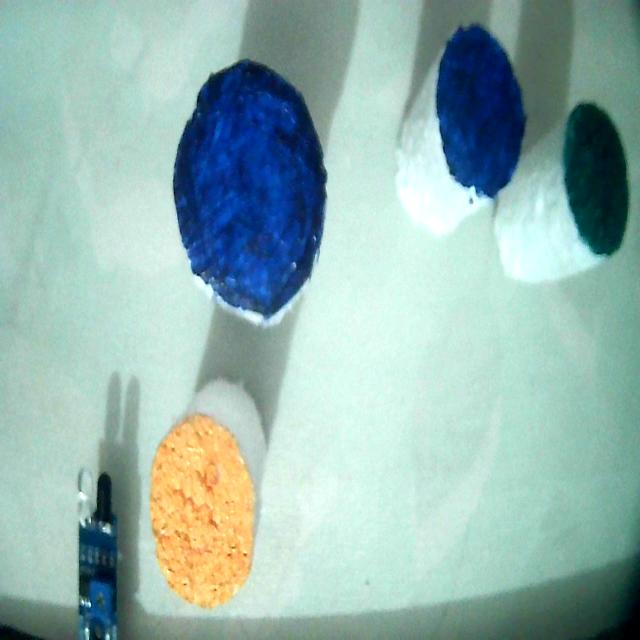blue: (173, 61, 326, 323), (437, 24, 525, 195)
green: (563, 104, 628, 256)
yellow: (151, 416, 253, 606)
